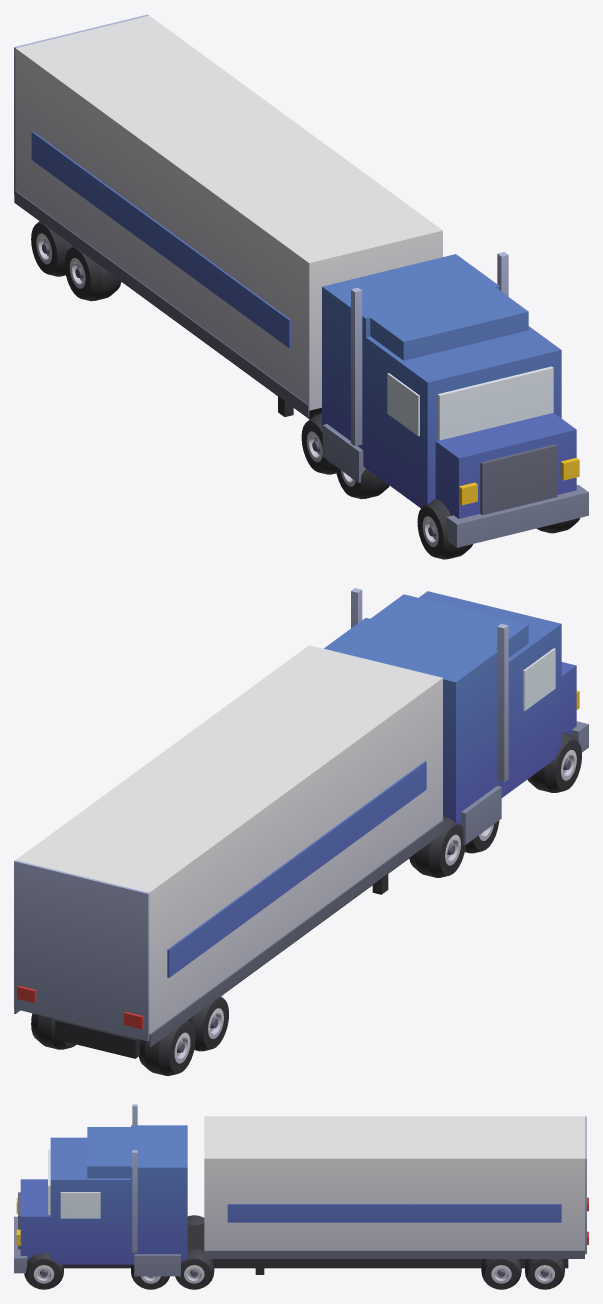
The model's file is semi-A.glb.
3 views of the same model, one above another, from view 1: azimuth 30°, elevation 25°; view 2: azimuth 150°, elevation 25°; view 3: azimuth 270°, elevation 25° (orthographic). The views are drawn at different scales.
Parts seen in each view (by area): view 1: body, wheel--3.0-l, wheel-3.85-l, wheel--3.65-l, wheel-1.6-l, wheel-2.25-l; view 2: body, wheel--3.65-l, wheel-1.6-l, wheel-3.85-l, wheel--3.0-l, wheel--3.65-r; view 3: body, wheel-1.6-r, wheel-3.85-r, wheel--3.0-r, wheel--3.65-r, wheel-2.25-r.
Boxes of the visible parts, <box> form: body: <box>14,14,588,547</box>; wheel--3.0-l: <box>64,246,121,301</box>; wheel-3.85-l: <box>417,499,472,559</box>; wheel--3.65-l: <box>31,221,72,276</box>; wheel-1.6-l: <box>301,413,336,474</box>; wheel-2.25-l: <box>335,466,389,499</box>; body: <box>14,588,588,1058</box>; wheel--3.65-l: <box>139,1020,195,1075</box>; wheel-1.6-l: <box>409,816,465,877</box>; wheel-3.85-l: <box>527,732,581,792</box>; wheel--3.0-l: <box>187,996,228,1051</box>; wheel--3.65-r: <box>31,1013,76,1049</box>; body: <box>14,1104,588,1276</box>; wheel-1.6-r: <box>175,1249,214,1289</box>; wheel-3.85-r: <box>24,1253,63,1289</box>; wheel--3.0-r: <box>481,1258,521,1289</box>; wheel--3.65-r: <box>525,1258,564,1289</box>; wheel-2.25-r: <box>131,1264,169,1289</box>.
Size of the model in its own units: 1.72 by 2.35 by 8.61.
1 material, 1 textured.
